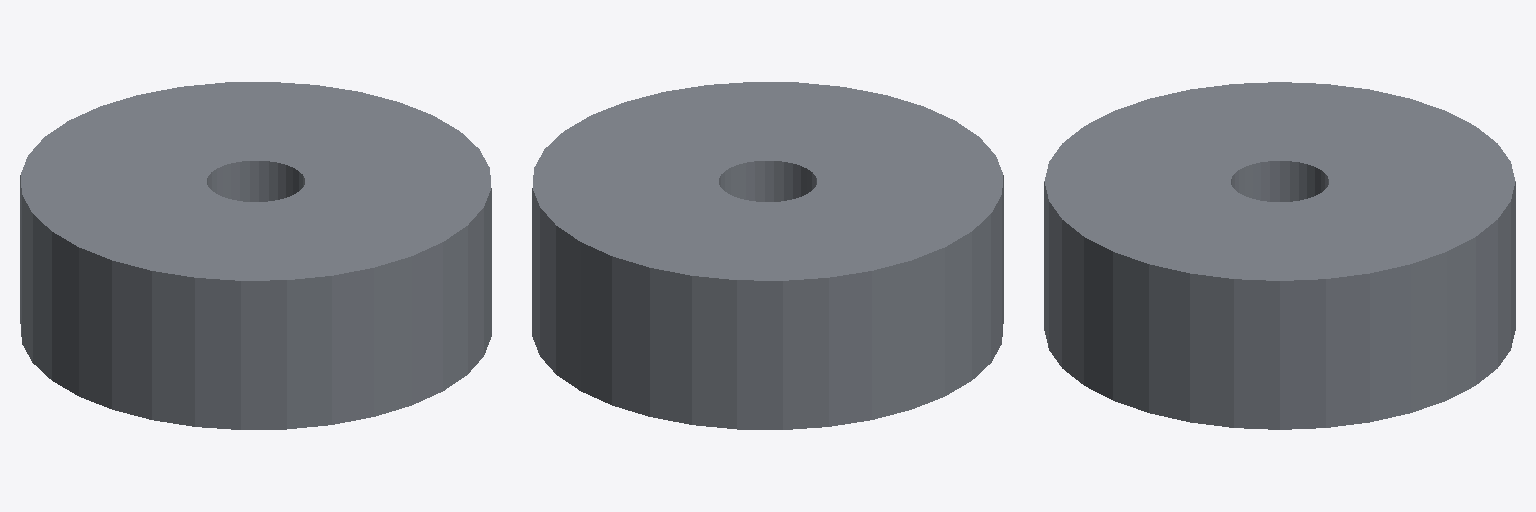
The robot description file, URDF, robot "ati_mini45":
<?xml version='1.0' encoding='utf-8'?>
<robot name="ati_mini45">
  <link name="mount">
    <inertial>
      <origin xyz="0 0 0.006" />
      <mass value="0.0700891719745223" />
      <inertia ixx="1.0098798343949046e-05" iyy="1.0098798343949046e-05" izz="1.8515456560509557e-05" ixy="0" ixz="0" iyz="0" />
    </inertial>
    <collision>
      <origin xyz="0 0 0" rpy="0 0 0" />
      <geometry>
        <mesh filename="mount_00.obj" />
      </geometry>
    </collision>
    <collision>
      <origin xyz="0 0 0" rpy="0 0 0" />
      <geometry>
        <mesh filename="mount_01.obj" />
      </geometry>
    </collision>
    <collision>
      <origin xyz="0 0 0" rpy="0 0 0" />
      <geometry>
        <mesh filename="mount_02.obj" />
      </geometry>
    </collision>
    <collision>
      <origin xyz="0 0 0" rpy="0 0 0" />
      <geometry>
        <mesh filename="mount_03.obj" />
      </geometry>
    </collision>
    <collision>
      <origin xyz="0 0 0" rpy="0 0 0" />
      <geometry>
        <mesh filename="mount_04.obj" />
      </geometry>
    </collision>
    <collision>
      <origin xyz="0 0 0" rpy="0 0 0" />
      <geometry>
        <mesh filename="mount_05.obj" />
      </geometry>
    </collision>
    <collision>
      <origin xyz="0 0 0" rpy="0 0 0" />
      <geometry>
        <mesh filename="mount_06.obj" />
      </geometry>
    </collision>
    <collision>
      <origin xyz="0 0 0" rpy="0 0 0" />
      <geometry>
        <mesh filename="mount_07.obj" />
      </geometry>
    </collision>
    <collision>
      <origin xyz="0 0 0" rpy="0 0 0" />
      <geometry>
        <mesh filename="mount_08.obj" />
      </geometry>
    </collision>
    <collision>
      <origin xyz="0 0 0" rpy="0 0 0" />
      <geometry>
        <mesh filename="mount_09.obj" />
      </geometry>
    </collision>
    <collision>
      <origin xyz="0 0 0" rpy="0 0 0" />
      <geometry>
        <mesh filename="mount_10.obj" />
      </geometry>
    </collision>
    <collision>
      <origin xyz="0 0 0" rpy="0 0 0" />
      <geometry>
        <mesh filename="mount_11.obj" />
      </geometry>
    </collision>
    <collision>
      <origin xyz="0 0 0" rpy="0 0 0" />
      <geometry>
        <mesh filename="mount_12.obj" />
      </geometry>
    </collision>
    <collision>
      <origin xyz="0 0 0" rpy="0 0 0" />
      <geometry>
        <mesh filename="mount_13.obj" />
      </geometry>
    </collision>
    <collision>
      <origin xyz="0 0 0" rpy="0 0 0" />
      <geometry>
        <mesh filename="mount_14.obj" />
      </geometry>
    </collision>
    <collision>
      <origin xyz="0 0 0" rpy="0 0 0" />
      <geometry>
        <mesh filename="mount_15.obj" />
      </geometry>
    </collision>
    <collision>
      <origin xyz="0 0 0" rpy="0 0 0" />
      <geometry>
        <mesh filename="mount_16.obj" />
      </geometry>
    </collision>
    <collision>
      <origin xyz="0 0 0" rpy="0 0 0" />
      <geometry>
        <mesh filename="mount_17.obj" />
      </geometry>
    </collision>
    <collision>
      <origin xyz="0 0 0" rpy="0 0 0" />
      <geometry>
        <mesh filename="mount_18.obj" />
      </geometry>
    </collision>
    <collision>
      <origin xyz="0 0 0" rpy="0 0 0" />
      <geometry>
        <mesh filename="mount_19.obj" />
      </geometry>
    </collision>
    <collision>
      <origin xyz="0 0 0" rpy="0 0 0" />
      <geometry>
        <mesh filename="mount_20.obj" />
      </geometry>
    </collision>
    <collision>
      <origin xyz="0 0 0" rpy="0 0 0" />
      <geometry>
        <mesh filename="mount_21.obj" />
      </geometry>
    </collision>
    <collision>
      <origin xyz="0 0 0" rpy="0 0 0" />
      <geometry>
        <mesh filename="mount_22.obj" />
      </geometry>
    </collision>
    <collision>
      <origin xyz="0 0 0" rpy="0 0 0" />
      <geometry>
        <mesh filename="mount_23.obj" />
      </geometry>
    </collision>
    <collision>
      <origin xyz="0 0 0" rpy="0 0 0" />
      <geometry>
        <mesh filename="mount_24.obj" />
      </geometry>
    </collision>
    <collision>
      <origin xyz="0 0 0" rpy="0 0 0" />
      <geometry>
        <mesh filename="mount_25.obj" />
      </geometry>
    </collision>
    <collision>
      <origin xyz="0 0 0" rpy="0 0 0" />
      <geometry>
        <mesh filename="mount_26.obj" />
      </geometry>
    </collision>
    <collision>
      <origin xyz="0 0 0" rpy="0 0 0" />
      <geometry>
        <mesh filename="mount_27.obj" />
      </geometry>
    </collision>
    <collision>
      <origin xyz="0 0 0" rpy="0 0 0" />
      <geometry>
        <mesh filename="mount_28.obj" />
      </geometry>
    </collision>
    <collision>
      <origin xyz="0 0 0" rpy="0 0 0" />
      <geometry>
        <mesh filename="mount_29.obj" />
      </geometry>
    </collision>
    <collision>
      <origin xyz="0 0 0" rpy="0 0 0" />
      <geometry>
        <mesh filename="mount_30.obj" />
      </geometry>
    </collision>
    <collision>
      <origin xyz="0 0 0" rpy="0 0 0" />
      <geometry>
        <mesh filename="mount_31.obj" />
      </geometry>
    </collision>
    <visual>
      <origin xyz="0 0 0" rpy="0 0 0" />
      <geometry>
        <mesh filename="mount.obj" />
      </geometry>
      <material name="silver">
        <color rgba="0.55 0.57 0.6 1" />
      </material>
    </visual>
  </link>
  <link name="tool">
    <inertial>
      <origin xyz="0 0 0.0001499999999999991" />
      <mass value="0.0216108280254777" />
      <inertia ixx="2.879120572717621e-06" iyy="2.879120572717621e-06" izz="5.708932439490443e-06" ixy="0" ixz="0" iyz="0" />
    </inertial>
    <collision>
      <origin xyz="0 0 0" rpy="0 0 0" />
      <geometry>
        <mesh filename="tool_00.obj" />
      </geometry>
    </collision>
    <collision>
      <origin xyz="0 0 0" rpy="0 0 0" />
      <geometry>
        <mesh filename="tool_01.obj" />
      </geometry>
    </collision>
    <collision>
      <origin xyz="0 0 0" rpy="0 0 0" />
      <geometry>
        <mesh filename="tool_02.obj" />
      </geometry>
    </collision>
    <collision>
      <origin xyz="0 0 0" rpy="0 0 0" />
      <geometry>
        <mesh filename="tool_03.obj" />
      </geometry>
    </collision>
    <collision>
      <origin xyz="0 0 0" rpy="0 0 0" />
      <geometry>
        <mesh filename="tool_04.obj" />
      </geometry>
    </collision>
    <collision>
      <origin xyz="0 0 0" rpy="0 0 0" />
      <geometry>
        <mesh filename="tool_05.obj" />
      </geometry>
    </collision>
    <collision>
      <origin xyz="0 0 0" rpy="0 0 0" />
      <geometry>
        <mesh filename="tool_06.obj" />
      </geometry>
    </collision>
    <collision>
      <origin xyz="0 0 0" rpy="0 0 0" />
      <geometry>
        <mesh filename="tool_07.obj" />
      </geometry>
    </collision>
    <collision>
      <origin xyz="0 0 0" rpy="0 0 0" />
      <geometry>
        <mesh filename="tool_08.obj" />
      </geometry>
    </collision>
    <collision>
      <origin xyz="0 0 0" rpy="0 0 0" />
      <geometry>
        <mesh filename="tool_09.obj" />
      </geometry>
    </collision>
    <collision>
      <origin xyz="0 0 0" rpy="0 0 0" />
      <geometry>
        <mesh filename="tool_10.obj" />
      </geometry>
    </collision>
    <collision>
      <origin xyz="0 0 0" rpy="0 0 0" />
      <geometry>
        <mesh filename="tool_11.obj" />
      </geometry>
    </collision>
    <collision>
      <origin xyz="0 0 0" rpy="0 0 0" />
      <geometry>
        <mesh filename="tool_12.obj" />
      </geometry>
    </collision>
    <collision>
      <origin xyz="0 0 0" rpy="0 0 0" />
      <geometry>
        <mesh filename="tool_13.obj" />
      </geometry>
    </collision>
    <collision>
      <origin xyz="0 0 0" rpy="0 0 0" />
      <geometry>
        <mesh filename="tool_14.obj" />
      </geometry>
    </collision>
    <collision>
      <origin xyz="0 0 0" rpy="0 0 0" />
      <geometry>
        <mesh filename="tool_15.obj" />
      </geometry>
    </collision>
    <collision>
      <origin xyz="0 0 0" rpy="0 0 0" />
      <geometry>
        <mesh filename="tool_16.obj" />
      </geometry>
    </collision>
    <collision>
      <origin xyz="0 0 0" rpy="0 0 0" />
      <geometry>
        <mesh filename="tool_17.obj" />
      </geometry>
    </collision>
    <collision>
      <origin xyz="0 0 0" rpy="0 0 0" />
      <geometry>
        <mesh filename="tool_18.obj" />
      </geometry>
    </collision>
    <collision>
      <origin xyz="0 0 0" rpy="0 0 0" />
      <geometry>
        <mesh filename="tool_19.obj" />
      </geometry>
    </collision>
    <collision>
      <origin xyz="0 0 0" rpy="0 0 0" />
      <geometry>
        <mesh filename="tool_20.obj" />
      </geometry>
    </collision>
    <collision>
      <origin xyz="0 0 0" rpy="0 0 0" />
      <geometry>
        <mesh filename="tool_21.obj" />
      </geometry>
    </collision>
    <collision>
      <origin xyz="0 0 0" rpy="0 0 0" />
      <geometry>
        <mesh filename="tool_22.obj" />
      </geometry>
    </collision>
    <collision>
      <origin xyz="0 0 0" rpy="0 0 0" />
      <geometry>
        <mesh filename="tool_23.obj" />
      </geometry>
    </collision>
    <collision>
      <origin xyz="0 0 0" rpy="0 0 0" />
      <geometry>
        <mesh filename="tool_24.obj" />
      </geometry>
    </collision>
    <collision>
      <origin xyz="0 0 0" rpy="0 0 0" />
      <geometry>
        <mesh filename="tool_25.obj" />
      </geometry>
    </collision>
    <collision>
      <origin xyz="0 0 0" rpy="0 0 0" />
      <geometry>
        <mesh filename="tool_26.obj" />
      </geometry>
    </collision>
    <collision>
      <origin xyz="0 0 0" rpy="0 0 0" />
      <geometry>
        <mesh filename="tool_27.obj" />
      </geometry>
    </collision>
    <collision>
      <origin xyz="0 0 0" rpy="0 0 0" />
      <geometry>
        <mesh filename="tool_28.obj" />
      </geometry>
    </collision>
    <collision>
      <origin xyz="0 0 0" rpy="0 0 0" />
      <geometry>
        <mesh filename="tool_29.obj" />
      </geometry>
    </collision>
    <collision>
      <origin xyz="0 0 0" rpy="0 0 0" />
      <geometry>
        <mesh filename="tool_30.obj" />
      </geometry>
    </collision>
    <collision>
      <origin xyz="0 0 0" rpy="0 0 0" />
      <geometry>
        <mesh filename="tool_31.obj" />
      </geometry>
    </collision>
    <visual>
      <origin xyz="0 0 0" rpy="0 0 0" />
      <geometry>
        <mesh filename="tool.obj" />
      </geometry>
      <material name="silver">
        <color rgba="0.55 0.57 0.6 1" />
      </material>
    </visual>
  </link>
  <joint name="sensing_joint" type="fixed">
    <parent link="mount" />
    <child link="tool" />
    <origin xyz="0 0 0.0137" rpy="0 0 0" />
  </joint>
  <link name="sensing" />
  <joint name="sensing_frame" type="fixed">
    <parent link="tool" />
    <child link="sensing" />
    <origin xyz="0 0 0" rpy="0 0 0" />
  </joint>
  <link name="tool_flange" />
  <joint name="tool_flange_frame" type="fixed">
    <parent link="tool" />
    <child link="tool_flange" />
    <origin xyz="0 0 0.002" rpy="0 0 0" />
  </joint>
</robot>

--- Facts derived from the render (not from the file) ---
Views: 3 orthographic renders of the robot side by side, from view 1: azimuth 30°, elevation 25°; view 2: azimuth 150°, elevation 25°; view 3: azimuth 270°, elevation 25°.
Robot: ati_mini45 — 4 links, 3 joints (3 fixed); root link mount; default pose: all joints at 0.
Visible links, largest first — view 1: tool, mount; view 2: tool, mount; view 3: tool, mount.
Link boxes in pixels (bbox=[...]): tool: bbox=[20, 82, 491, 315]; mount: bbox=[20, 196, 491, 429]; tool: bbox=[532, 82, 1003, 315]; mount: bbox=[532, 196, 1003, 429]; tool: bbox=[1044, 82, 1515, 315]; mount: bbox=[1044, 196, 1515, 429].
Bounding box of the posed robot: 0.045 × 0.045 × 0.0157 m (x, y, z).
2 mesh visuals loaded from 2 distinct referenced files (2 OBJ).
